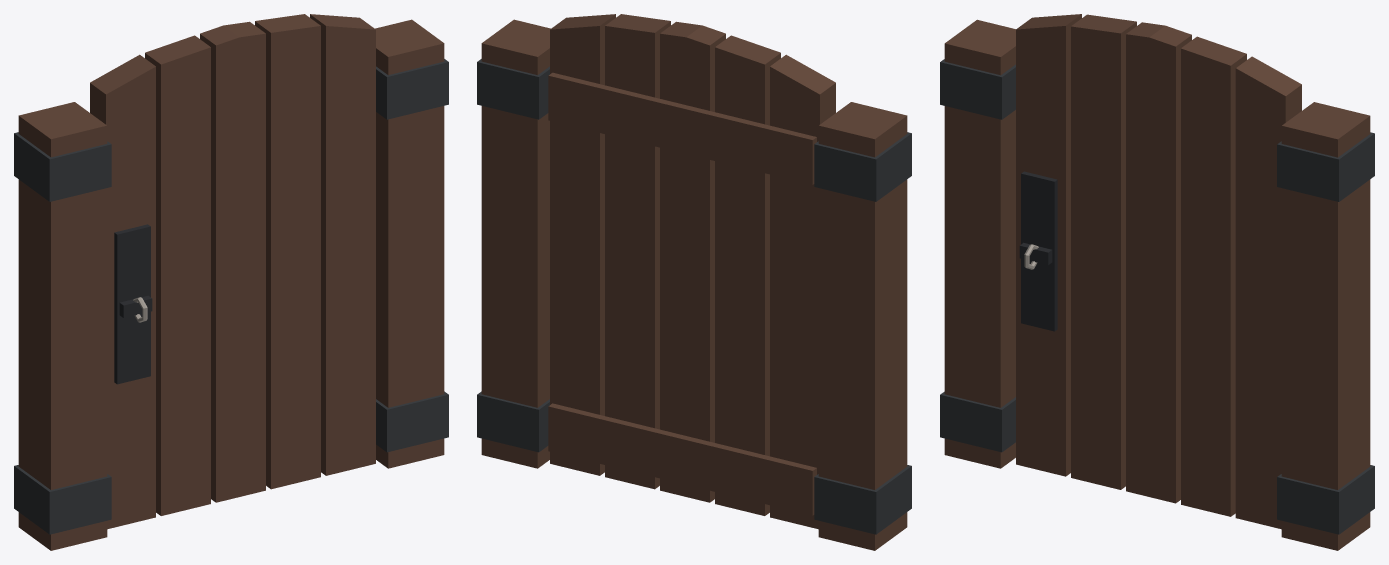
The model's file is Wicket_02_B.gltf.
3 views of the same model, side by side, from view 1: azimuth 30°, elevation 25°; view 2: azimuth 150°, elevation 25°; view 3: azimuth 330°, elevation 25° (orthographic).
Visible parts, largest first — view 1: WicketDoor_02_B, Wicket_02_B; view 2: WicketDoor_02_B, Wicket_02_B; view 3: WicketDoor_02_B, Wicket_02_B.
Part boxes in pixels (<box>): WicketDoor_02_B: <box>90,14,375,529</box>; Wicket_02_B: <box>14,19,448,550</box>; WicketDoor_02_B: <box>548,14,835,529</box>; Wicket_02_B: <box>477,19,911,550</box>; WicketDoor_02_B: <box>1016,14,1301,529</box>; Wicket_02_B: <box>940,19,1374,550</box>.
Bounding box in the file's own units: 0.7103 × 0.7817 × 0.1269.
